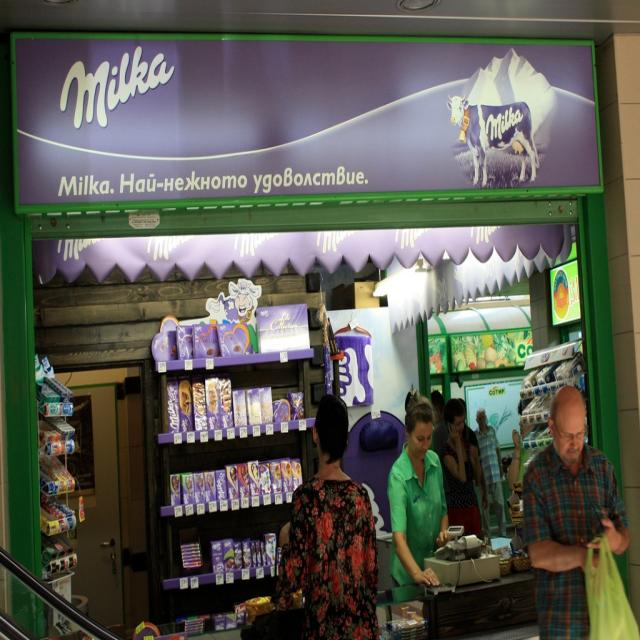milka: (58, 43, 542, 191), (167, 385, 181, 433)
